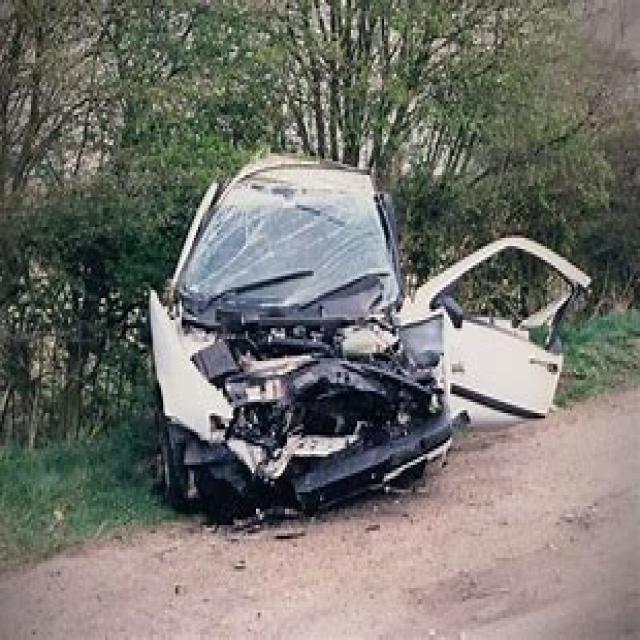Accident: (130, 163, 621, 573)
